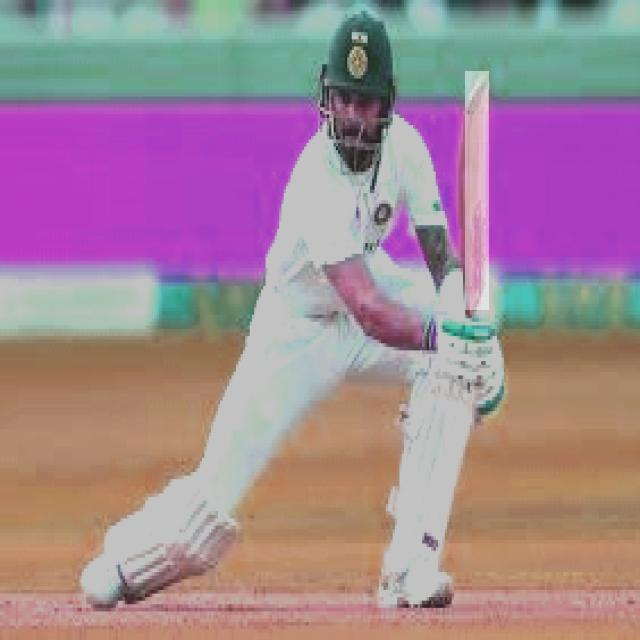bat: (463, 75, 495, 324)
toe: (463, 73, 493, 118)
